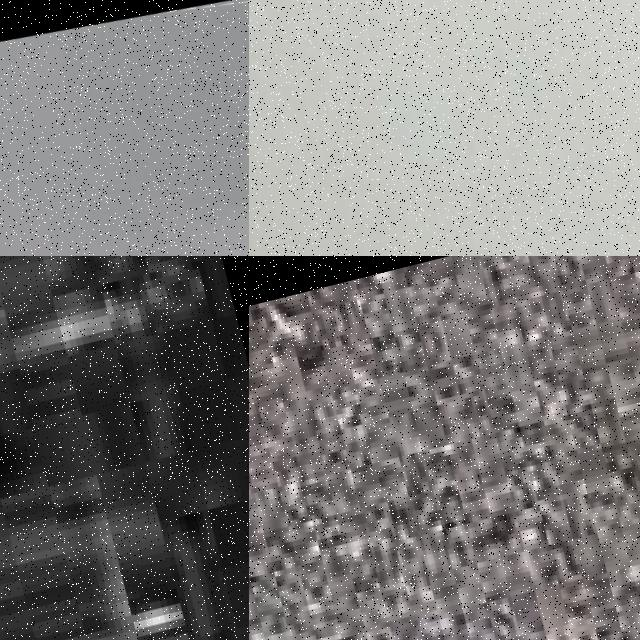drone: (0, 0, 249, 256)
